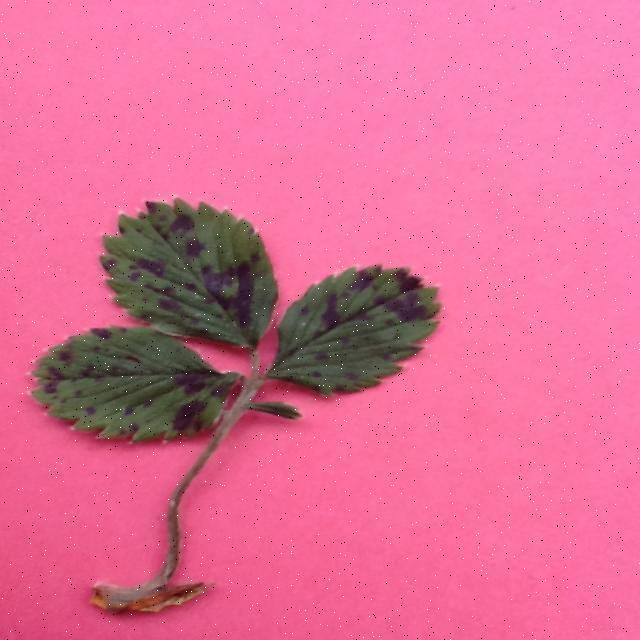foliage: (25, 192, 448, 616)
